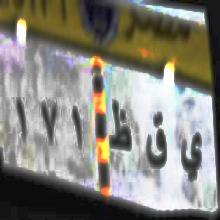1: (70, 99, 89, 159), (14, 96, 30, 142)
7: (43, 97, 57, 147)
Thaa: (107, 91, 132, 160)
qaaf: (144, 108, 166, 178)
yaa: (178, 128, 203, 186)
